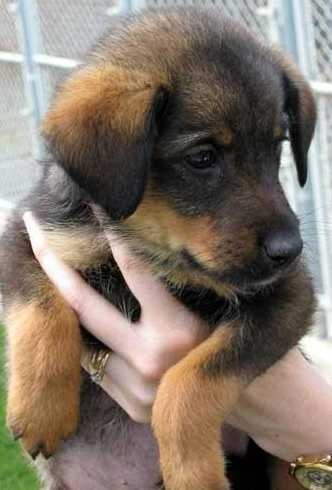Dog: (10, 6, 316, 477)
